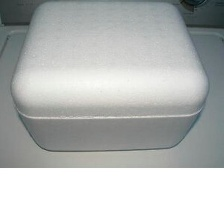foam_box: (6, 0, 213, 157)
